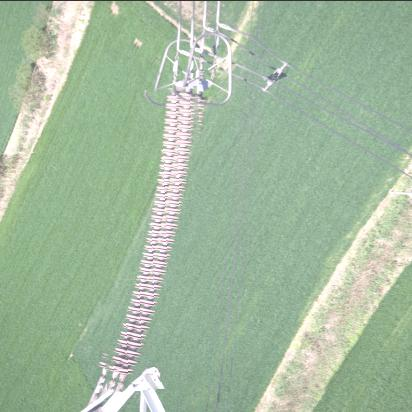insulator: (92, 87, 213, 391)
